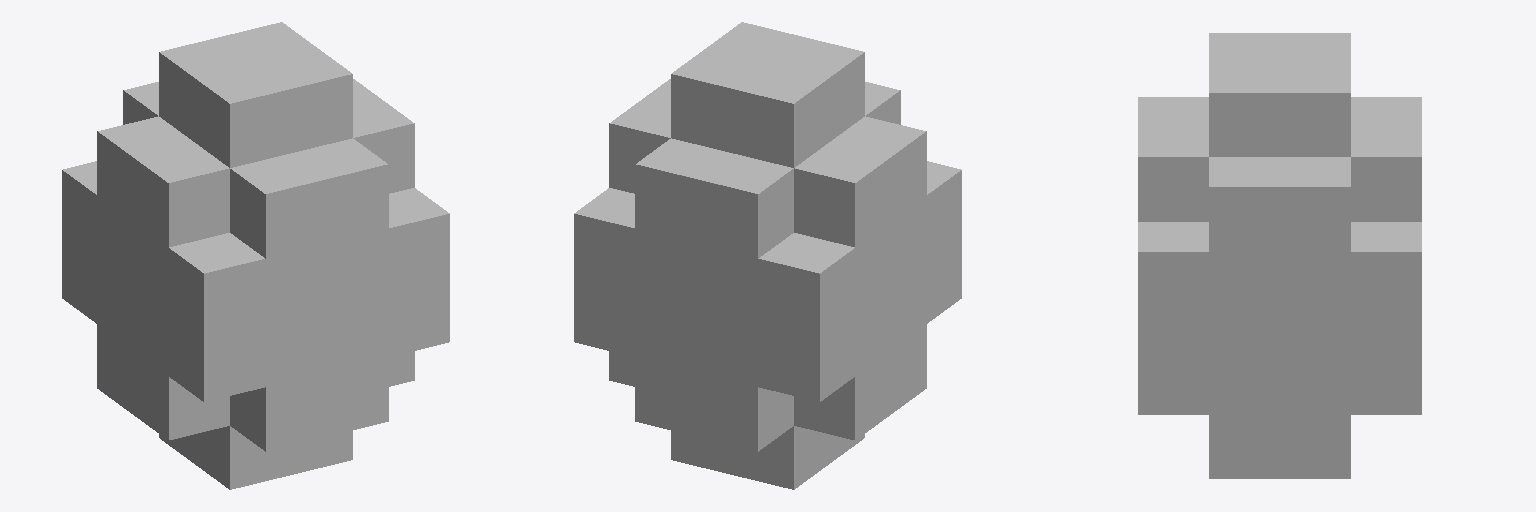
File: Treasure1.obj
3 renders of one model, left to right at view 1: azimuth 30°, elevation 25°; view 2: azimuth 150°, elevation 25°; view 3: azimuth 270°, elevation 25°, orthographic.
Visible parts, largest first — view 1: Untitled; view 2: Untitled; view 3: Untitled.
Part boxes in pixels (x1,y1,x2,y2): Untitled: (62, 22, 449, 489); Untitled: (574, 22, 961, 489); Untitled: (1138, 33, 1421, 478).
Size of the model in its own units: 0.4 by 0.6 by 0.4.